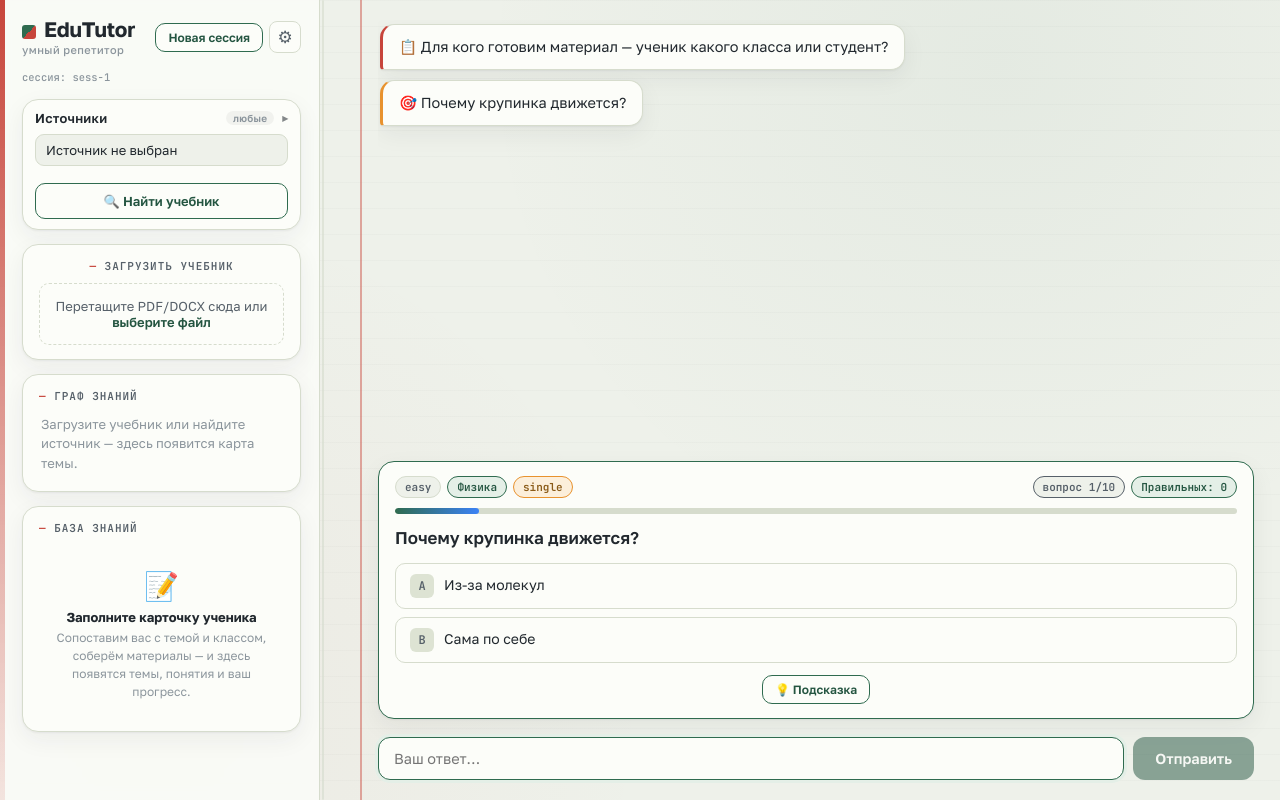
Test case: App › клик подсказки не показывает фазовый индикатор с мусорным текстом
expect the text "Почему крупинка движется?" is shown: met, box [395,527,639,548]
// клик по «Подсказка» → busy включился, вопрос должен остаться
Click the button "💡 Подсказка": (816, 690) [762,675,870,704]
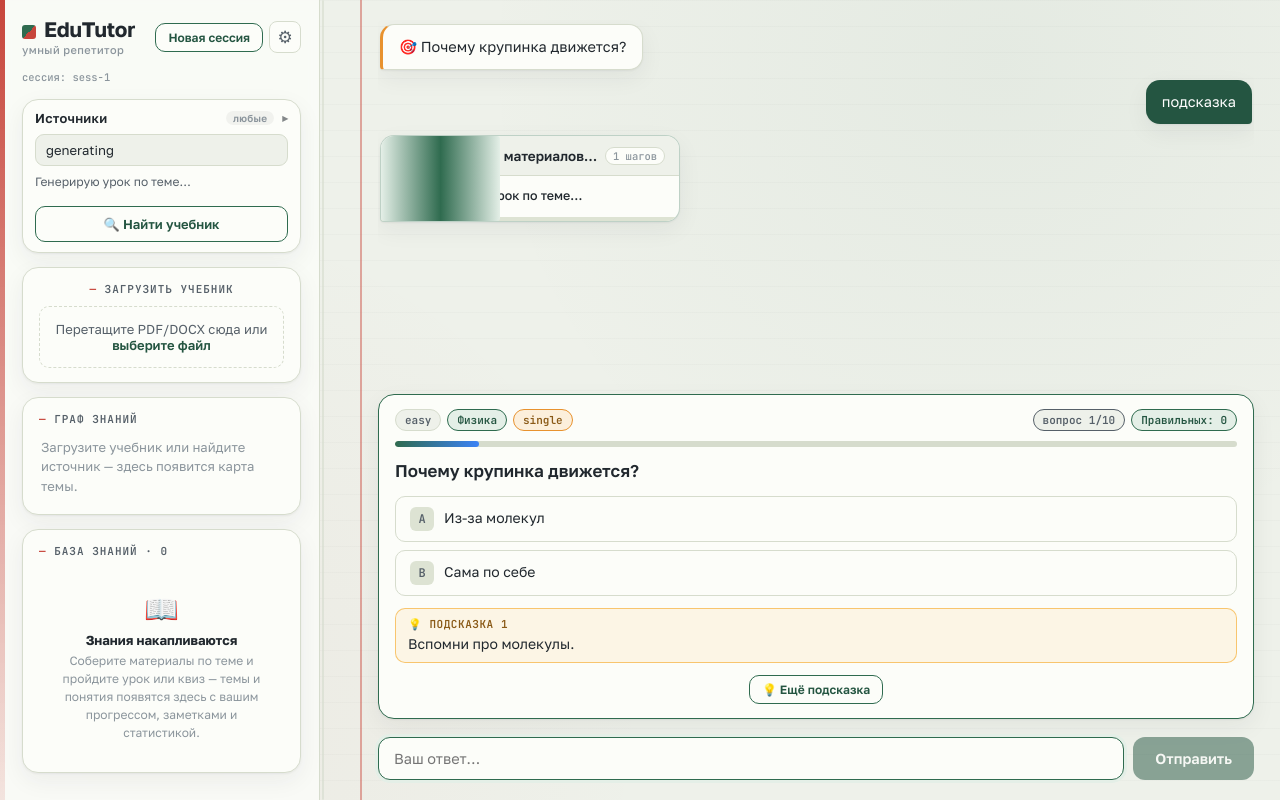
expect the text "Почему крупинка движется?" is shown: met, box [395,460,639,481]
expect the element with class "source-progress-card" is shown: met, box [380,135,680,222]
expect the text "Вспомни про молекулы." is shown: met, box [408,635,574,652]
